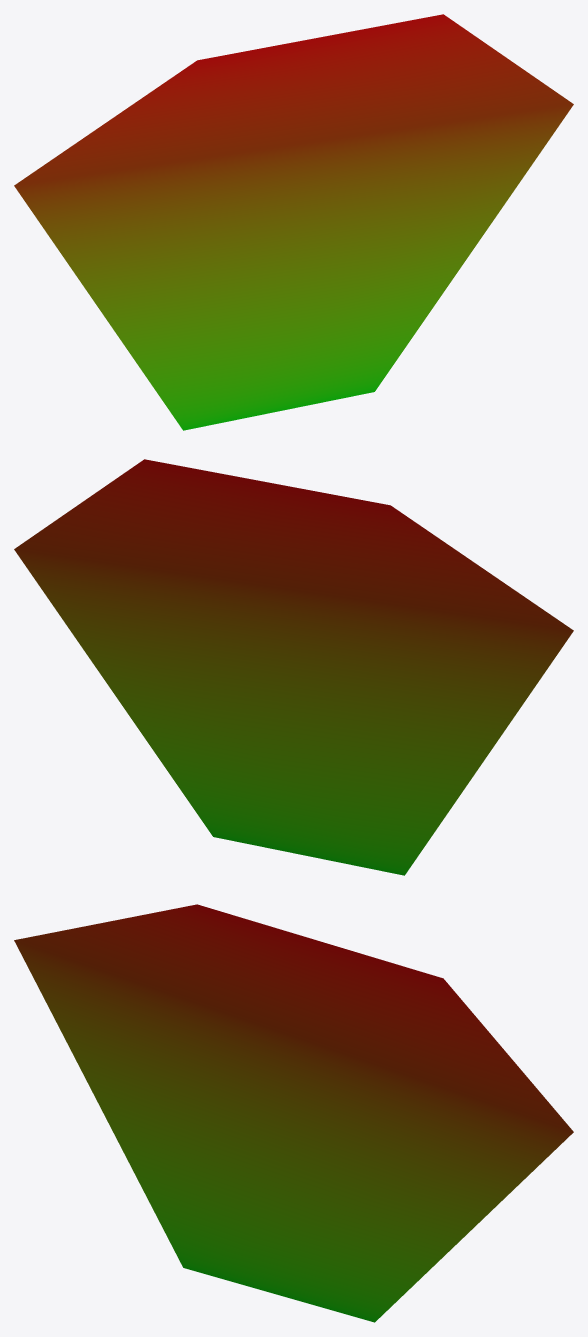
Rendered from Cotton Grass_LOD4_Var7_wlykecdia.fbx.
3 renders of one model, top to bottom at view 1: azimuth 30°, elevation 25°; view 2: azimuth 150°, elevation 25°; view 3: azimuth 330°, elevation 25°, orthographic.
Visible parts, largest first — view 1: _wmqf_Var7_LOD4; view 2: _wmqf_Var7_LOD4; view 3: _wmqf_Var7_LOD4.
Boxes of the visible parts, <box> form: _wmqf_Var7_LOD4: <box>14,14,573,430</box>; _wmqf_Var7_LOD4: <box>14,459,573,875</box>; _wmqf_Var7_LOD4: <box>14,904,573,1322</box>.
Size of the model in its own units: 25.56 by 16.35 by 1.24e-07.
